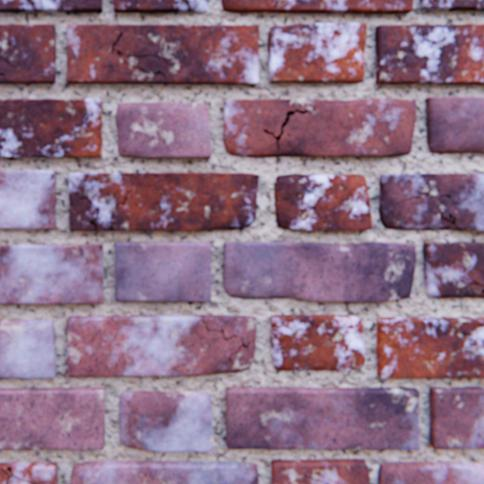brick: (225, 386, 418, 448), (222, 241, 414, 301), (67, 314, 255, 375), (67, 25, 258, 85), (223, 98, 415, 157), (69, 172, 257, 230), (376, 316, 483, 377), (0, 386, 104, 448), (374, 25, 483, 84), (0, 244, 103, 303), (378, 173, 483, 230), (0, 99, 102, 157), (267, 24, 365, 83), (115, 242, 211, 301), (119, 390, 213, 450), (273, 174, 370, 230), (270, 314, 363, 370), (116, 103, 210, 157), (71, 459, 258, 483), (428, 385, 483, 447), (422, 242, 483, 297), (0, 25, 56, 83), (425, 97, 483, 153), (0, 170, 56, 228), (0, 319, 56, 377), (221, 0, 412, 14), (271, 457, 368, 483), (377, 460, 483, 483), (0, 0, 102, 13), (0, 460, 57, 483), (114, 0, 208, 13), (419, 0, 483, 11), (9, 475, 32, 483)
crack: (110, 32, 168, 78), (262, 109, 313, 148), (79, 188, 99, 230), (219, 329, 248, 353), (1, 465, 36, 483), (409, 182, 436, 198), (438, 198, 454, 223), (457, 273, 483, 285), (104, 206, 115, 230), (304, 473, 328, 483), (0, 57, 15, 67), (118, 193, 127, 204), (272, 0, 279, 10), (206, 325, 217, 330), (439, 194, 449, 197)
